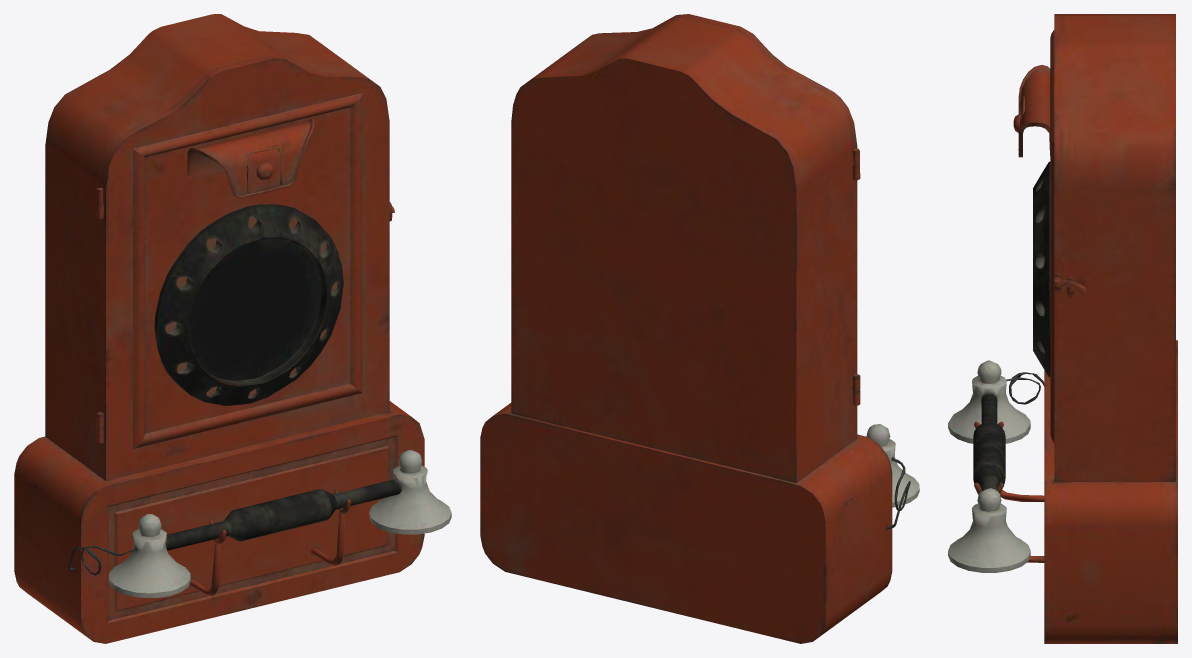
Rendered from vintage_telephone_wall_clock.glb.
The picture shows the model from 3 angles, left to right: view 1: azimuth 30°, elevation 25°; view 2: azimuth 150°, elevation 25°; view 3: azimuth 270°, elevation 25°; orthographic projection.
Visible parts, largest first — view 1: vintage_telephone_wall_clock; view 2: vintage_telephone_wall_clock; view 3: vintage_telephone_wall_clock.
Boxes of the visible parts, x1,y1,x2,y2 form: vintage_telephone_wall_clock: [14, 14, 451, 643]; vintage_telephone_wall_clock: [480, 14, 919, 643]; vintage_telephone_wall_clock: [948, 14, 1177, 643].
Bounding box in the file's own units: 0.3424 × 0.5006 × 0.1926.
Materials: 2 (2 with a texture image).
